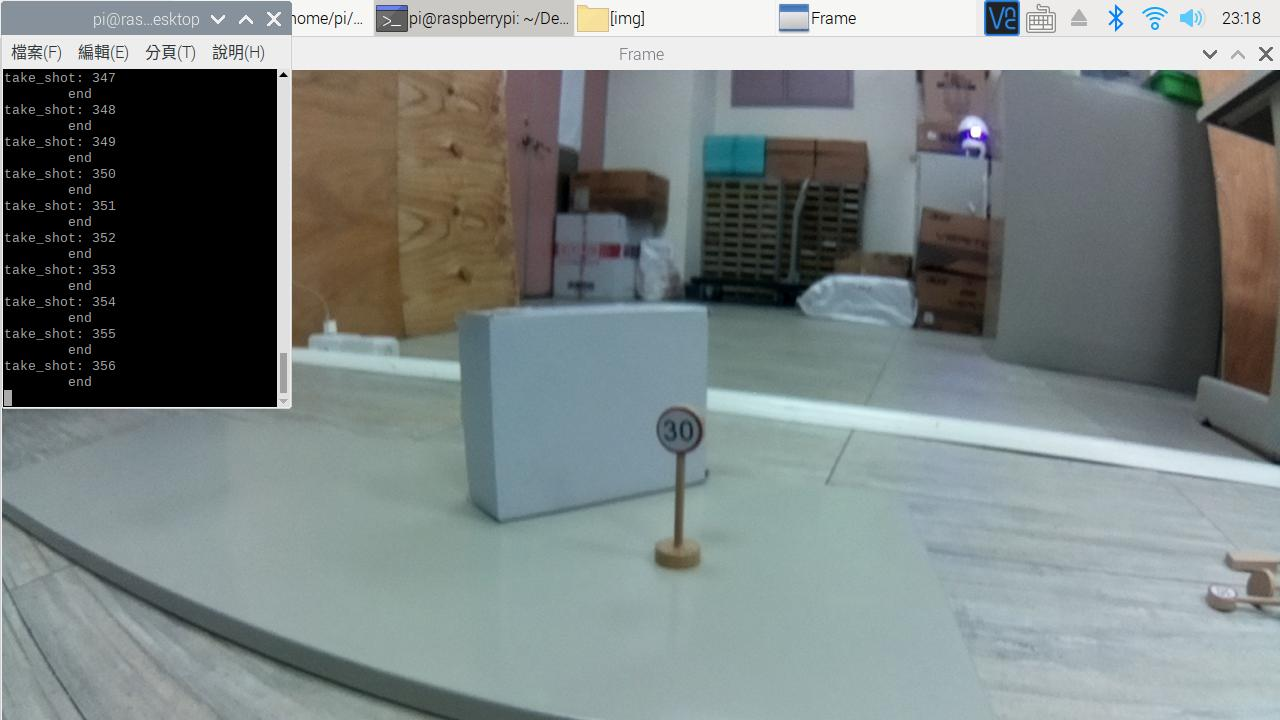Speed30: (645, 396, 731, 460)
